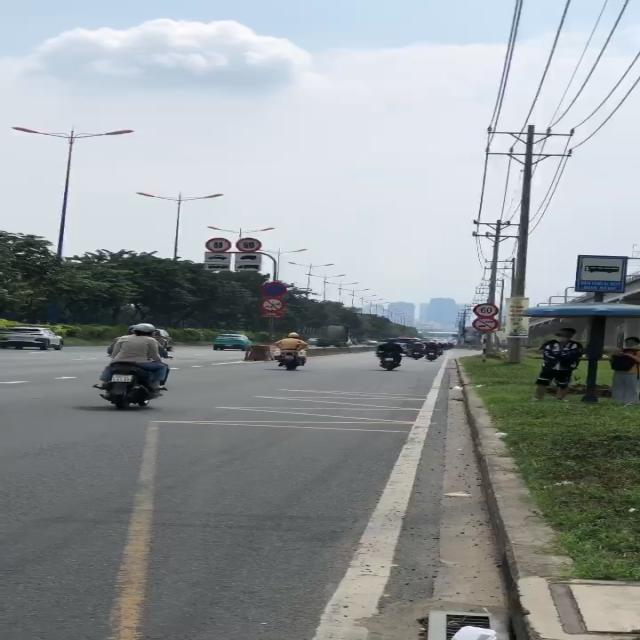Bien bao toc do toi da cho phep: (473, 300, 501, 318)
